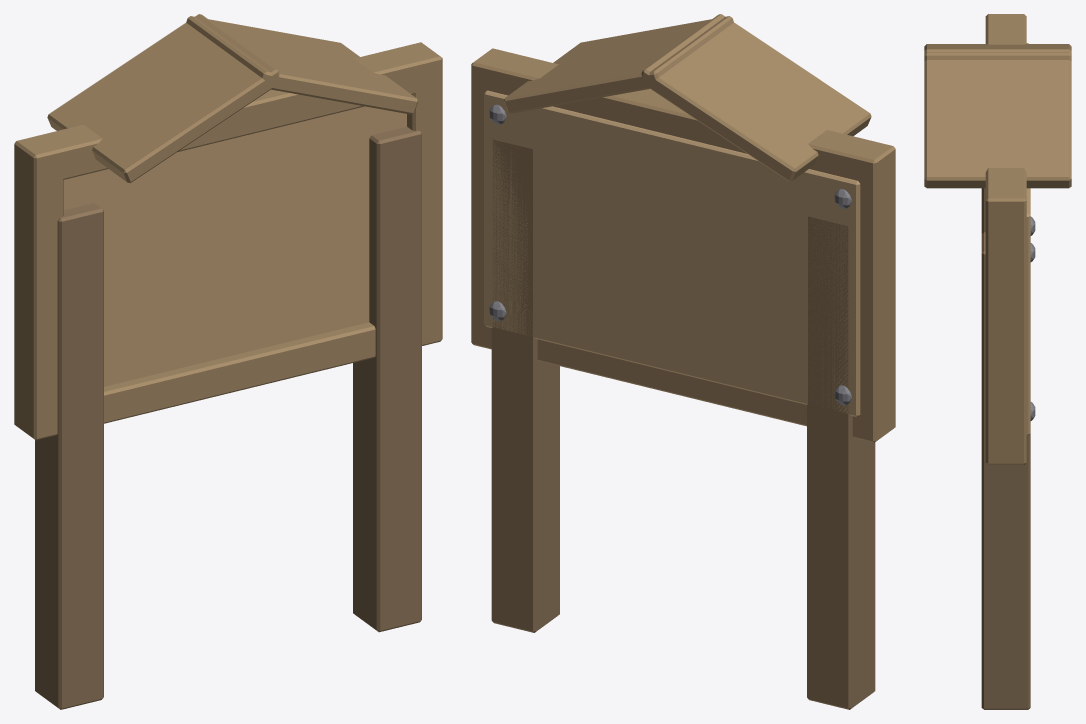
File: dgn_sign_wood.glb
3 views of the same model, side by side, from view 1: azimuth 30°, elevation 25°; view 2: azimuth 150°, elevation 25°; view 3: azimuth 270°, elevation 25° (orthographic). The views are drawn at different scales.
Parts seen in each view (by area): view 1: dgn_sign_wood; view 2: dgn_sign_wood; view 3: dgn_sign_wood.
Part boxes in pixels (x1,y1,x2,y2): dgn_sign_wood: (14, 14, 442, 709); dgn_sign_wood: (471, 14, 895, 709); dgn_sign_wood: (924, 14, 1071, 709).
Size of the model in its own units: 1.08 by 1.56 by 0.36.
